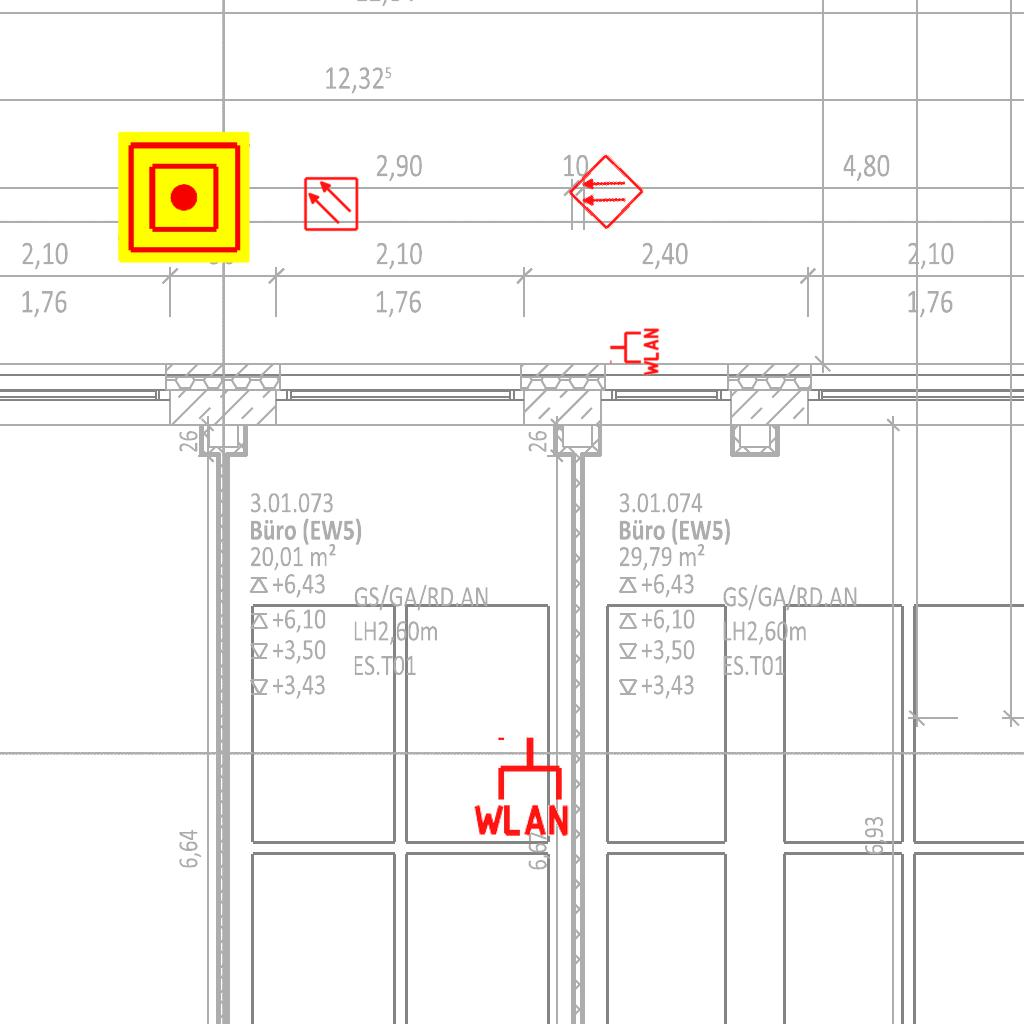NAM-Nichtautomatischer_Melder: (118, 131, 250, 263)
RMO_Rauchmelder_optischer: (566, 152, 646, 232), (303, 176, 359, 232)
WLAN: (469, 733, 573, 838), (608, 326, 660, 378)
